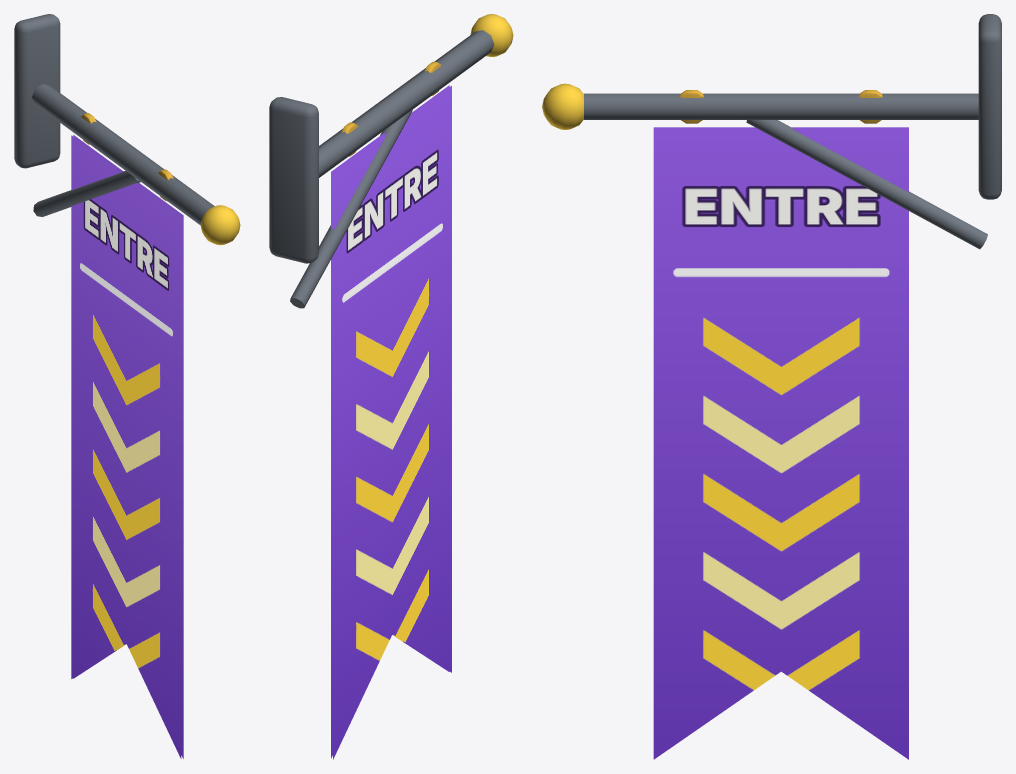
File: bandeirola_roxa.glb
3 views of the same model, side by side, from view 1: azimuth 30°, elevation 25°; view 2: azimuth 150°, elevation 25°; view 3: azimuth 270°, elevation 25° (orthographic). The views are drawn at different scales.
Visible parts, largest first — view 1: bandeirola, bandeirola_roxa; view 2: bandeirola, bandeirola_roxa; view 3: bandeirola, bandeirola_roxa.
Part boxes in pixels (x1,y1,x2,y2): bandeirola: (71, 113, 183, 758); bandeirola_roxa: (14, 14, 240, 245); bandeirola: (331, 61, 451, 759); bandeirola_roxa: (269, 14, 513, 308); bandeirola: (653, 90, 908, 759); bandeirola_roxa: (542, 14, 1001, 249).
Size of the model in its own units: 0.12 by 1.75 by 0.99.
Materials: 2 (2 with a texture image).
